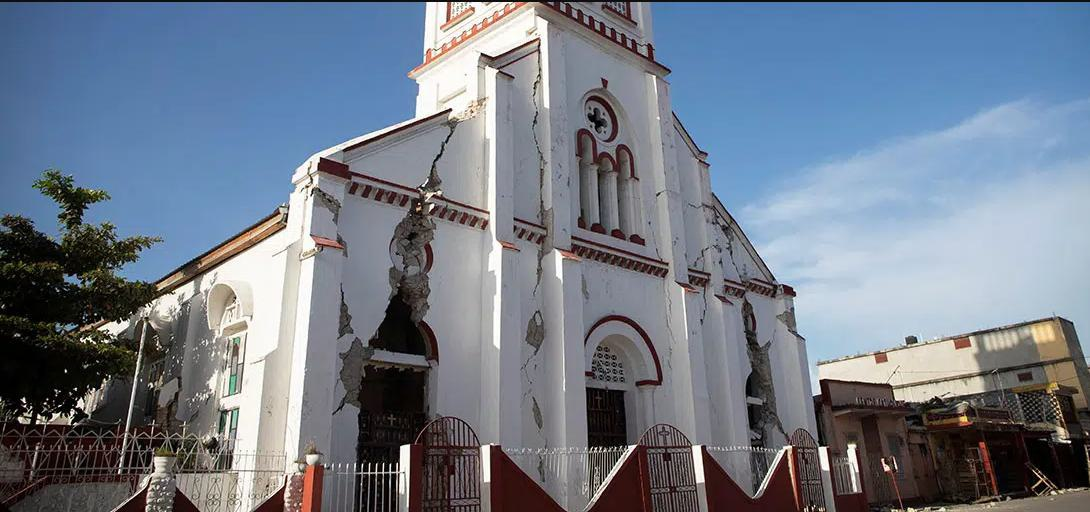crack: (735, 296, 789, 439), (400, 121, 456, 246), (528, 140, 556, 209), (522, 62, 551, 128), (702, 204, 732, 254)
